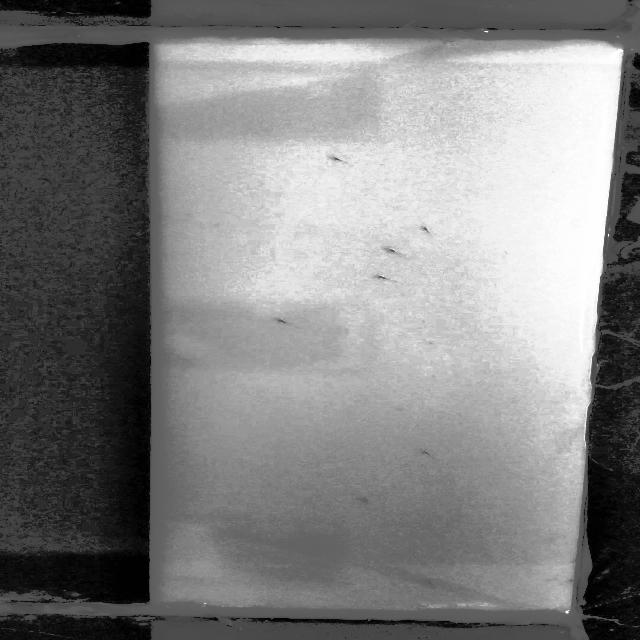shrimp: (413, 223, 434, 238), (354, 493, 375, 507), (414, 446, 432, 461), (330, 153, 349, 167), (380, 244, 400, 257), (416, 578, 438, 588), (371, 271, 388, 282), (270, 315, 287, 325)
